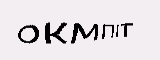І: (115, 20, 121, 40)
К: (42, 20, 68, 45)
М: (69, 20, 98, 44)
О: (14, 22, 39, 45)
П: (100, 22, 115, 39)
Т: (120, 19, 133, 38)
